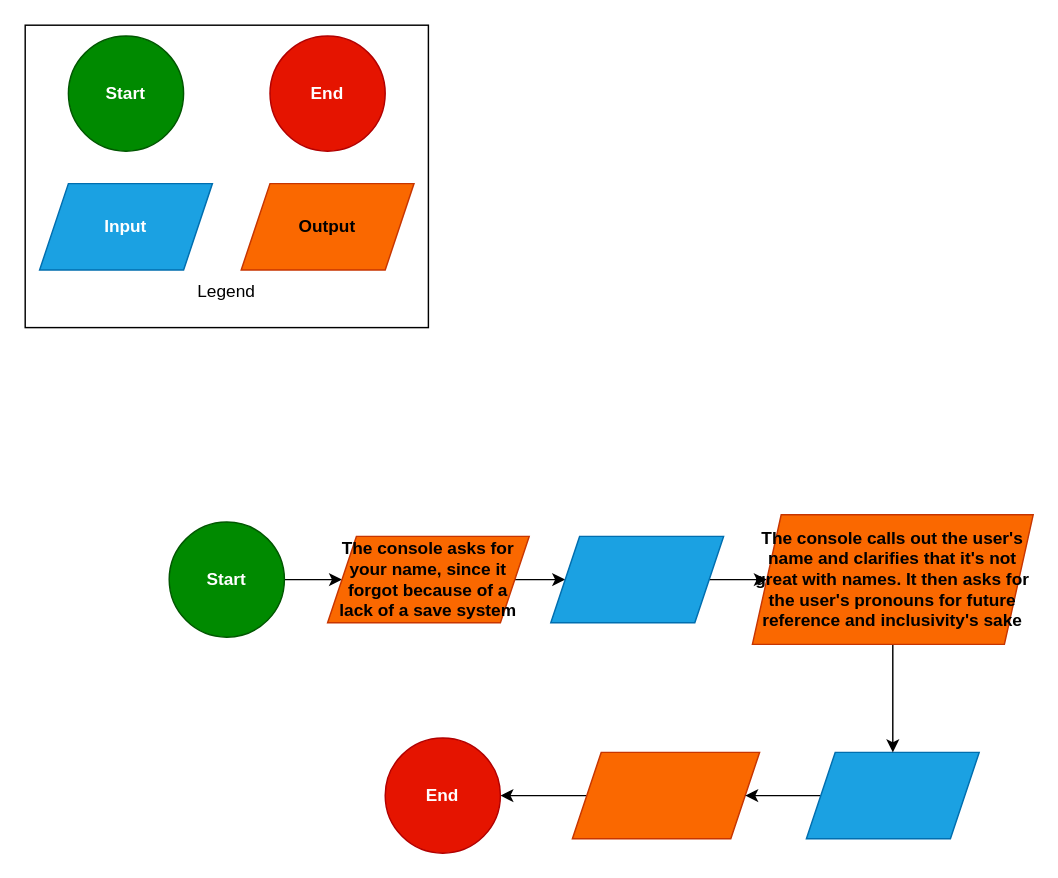
This 1058x878 diagram has some shape labels left out. The shapes that lost their labels are listed below. From the top down, each one's centre as x and y in pixels, then its label:
At point (636, 579): "The user types their name when prompted".
At point (665, 795): "The console thanks the user by using their inputted name".
At point (892, 795): "The user inputs their preferred pronouns".
